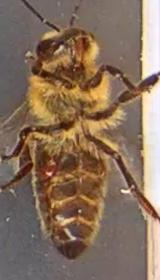varroa_mite: (21, 148, 67, 189)
